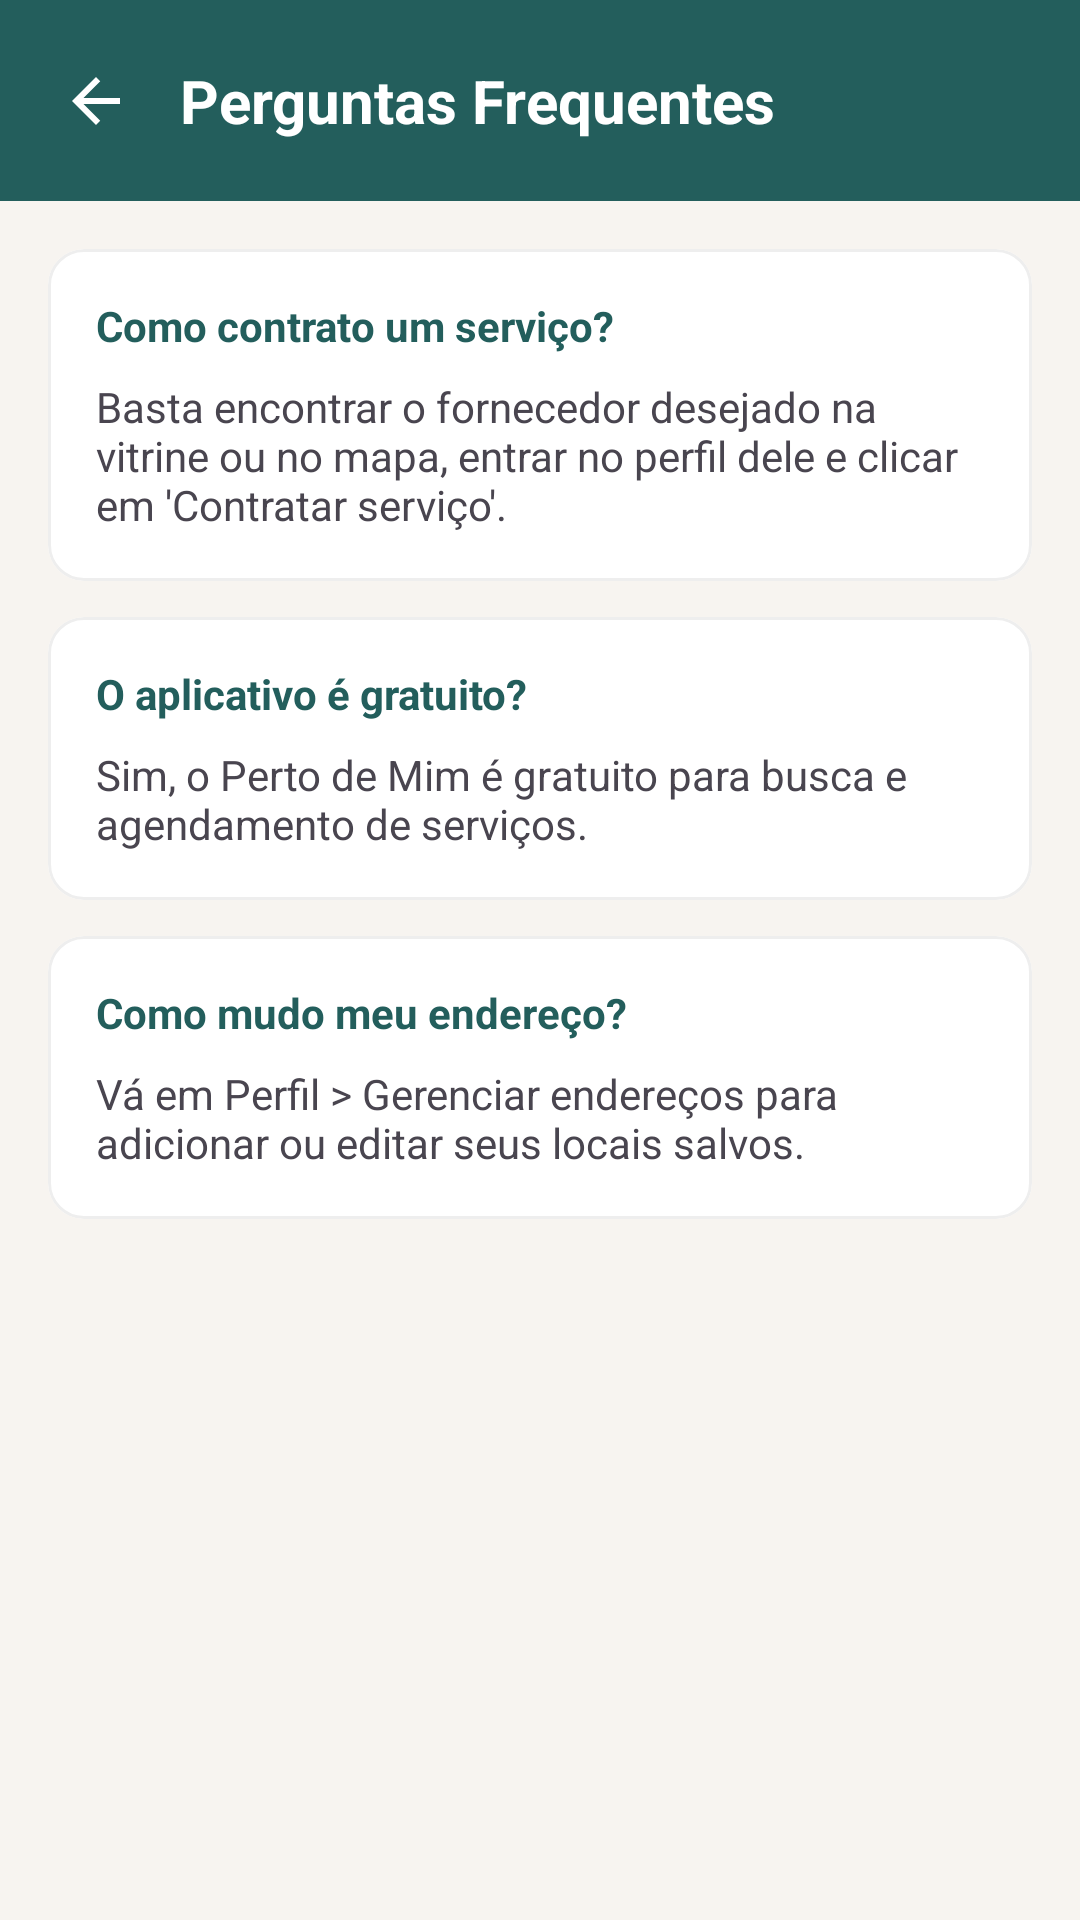

Locate icon controls on the screen. Image size 1080px×1920px, boxes as (x1, y1, x2, y2).
Voltar: (72, 77, 120, 125)
